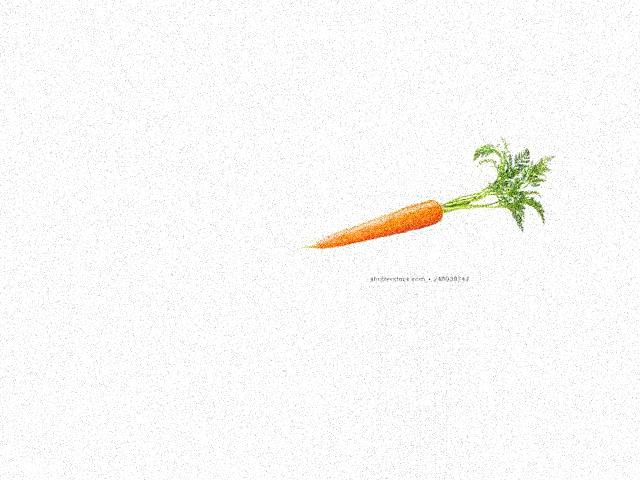carrot: (305, 197, 445, 256)
